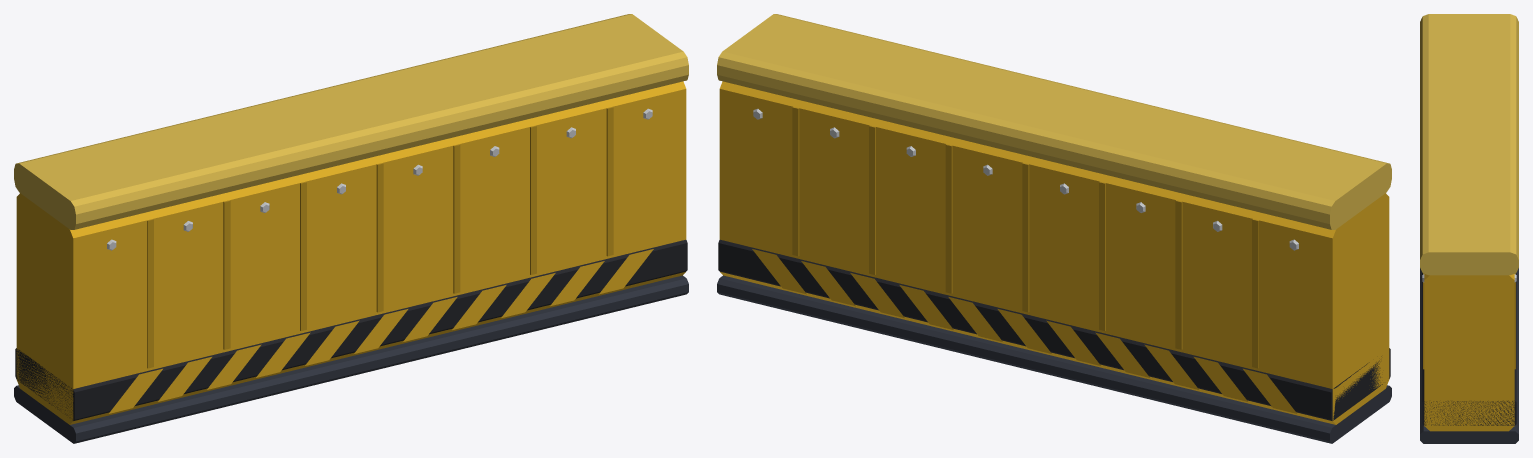
Rendered from toy-border.glb.
3 views of the same model, side by side, from view 1: azimuth 30°, elevation 25°; view 2: azimuth 150°, elevation 25°; view 3: azimuth 270°, elevation 25° (orthographic). The views are drawn at different scales.
Parts seen in each view (by area): view 1: toy-border; view 2: toy-border; view 3: toy-border.
Boxes of the visible parts, left/top/right/bottom form: toy-border: left=14, top=14, right=688, bottom=443; toy-border: left=717, top=14, right=1391, bottom=443; toy-border: left=1420, top=14, right=1518, bottom=443.
Size of the model in its own units: 4 by 1.5 by 0.7.
